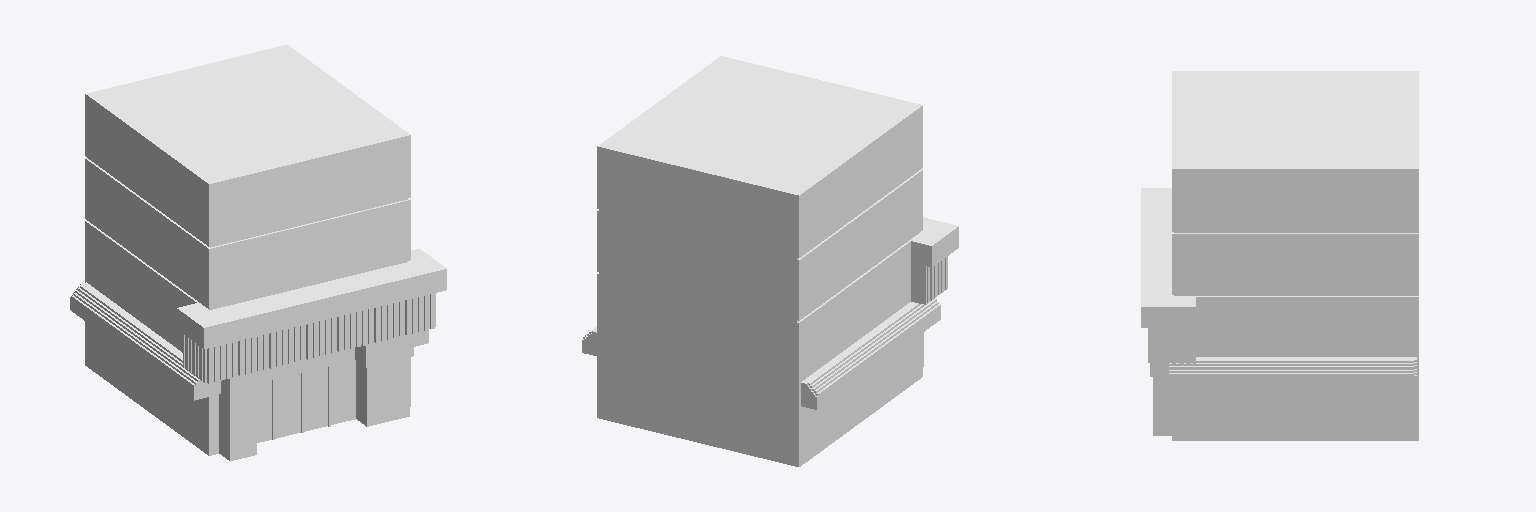
The model's file is Fifth.obj.
3 views of the same model, side by side, from view 1: azimuth 30°, elevation 25°; view 2: azimuth 150°, elevation 25°; view 3: azimuth 270°, elevation 25° (orthographic).
Parts seen in each view (by area): view 1: Fifth; view 2: Fifth; view 3: Fifth.
Boxes of the visible parts, <box> form: Fifth: <box>70,45,446,460</box>; Fifth: <box>582,56,958,466</box>; Fifth: <box>1141,71,1418,440</box>.
Bounding box in the file's own units: 118 × 126 × 117.